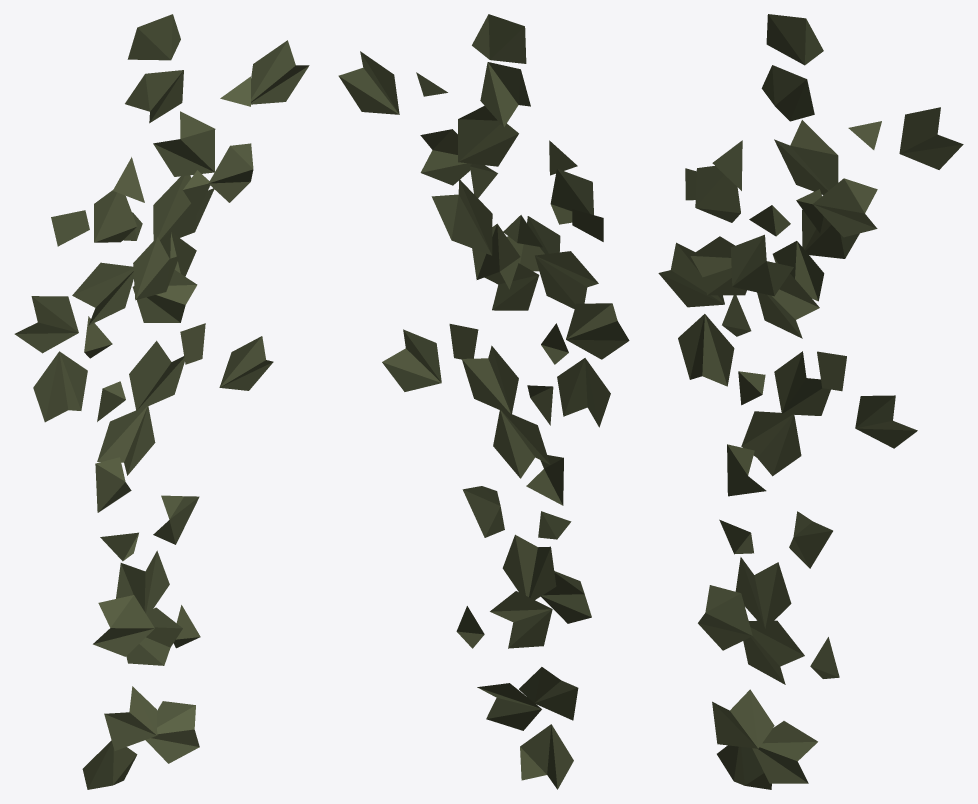
Rendered from kingdom_SM_Env_Ivy_05.gltf.
The picture shows the model from 3 angles, left to right: view 1: azimuth 30°, elevation 25°; view 2: azimuth 150°, elevation 25°; view 3: azimuth 330°, elevation 25°; orthographic projection. The views are drawn at different scales.
Visible parts, largest first — view 1: SM_Env_Ivy_05; view 2: SM_Env_Ivy_05; view 3: SM_Env_Ivy_05.
Part boxes in pixels (x1,y1,x2,y2): SM_Env_Ivy_05: (14, 14, 309, 789); SM_Env_Ivy_05: (338, 14, 629, 789); SM_Env_Ivy_05: (658, 14, 963, 789).
Bounding box in the file's own units: 1.66 × 4.09 × 0.2457.
1 material, 1 textured.
